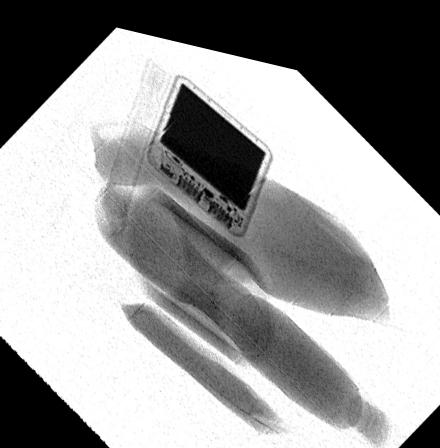Powerbank: (144, 65, 273, 225)
